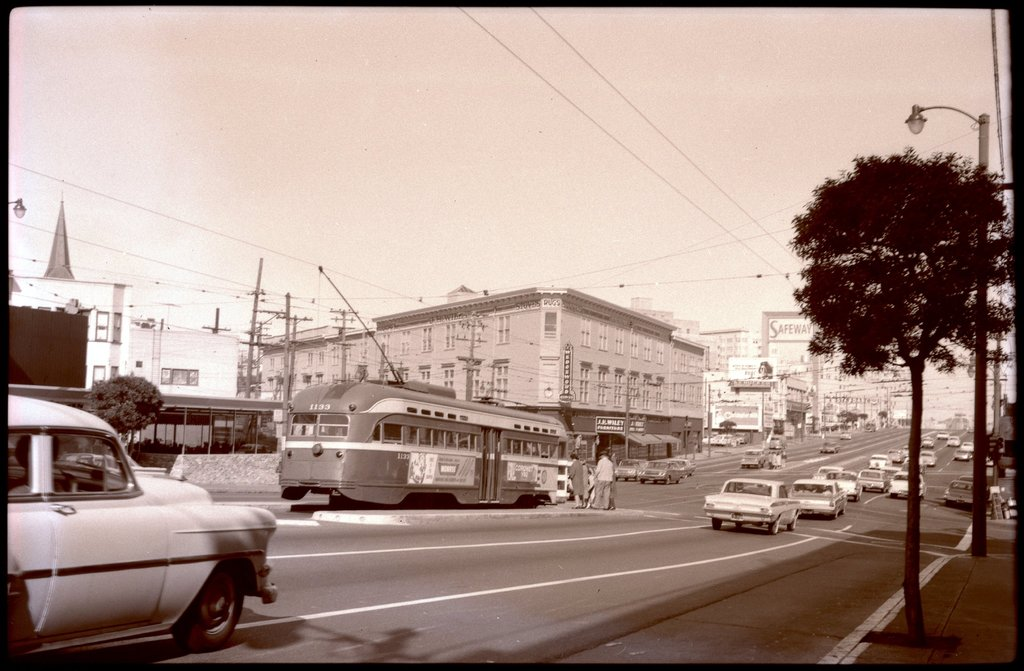Car: (0, 392, 277, 660), (792, 432, 970, 514), (704, 476, 800, 530), (637, 462, 687, 484), (616, 454, 645, 480), (668, 455, 695, 471), (743, 450, 769, 466)
